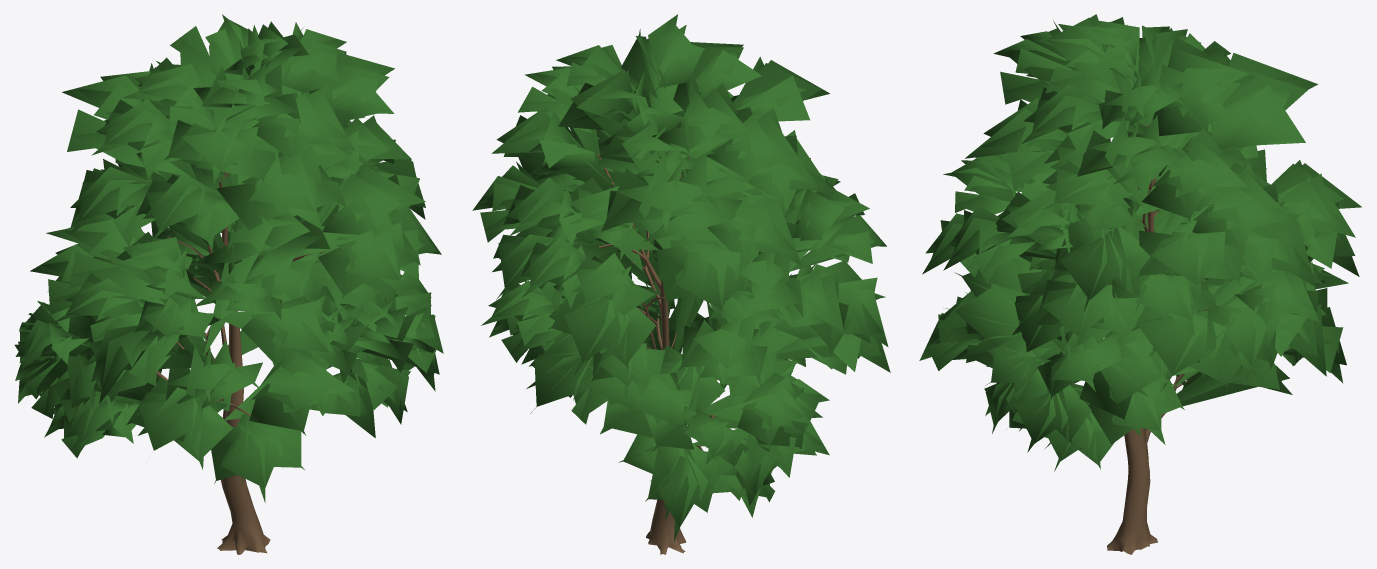
Rendered from Maple_B.obj.
The picture shows the model from 3 angles, left to right: view 1: azimuth 30°, elevation 25°; view 2: azimuth 150°, elevation 25°; view 3: azimuth 270°, elevation 25°; orthographic projection. The views are drawn at different scales.
Visible parts, largest first — view 1: Leaves, Trunk; view 2: Leaves, Trunk; view 3: Leaves, Trunk.
Boxes of the visible parts, x1,y1,x2,y2 form: Leaves: (14,14,443,502); Trunk: (156,172,325,554); Leaves: (472,14,890,541); Trunk: (598,154,725,554); Leaves: (919,14,1361,471); Trunk: (1107,124,1207,554).
Bounding box in the file's own units: 70.75 × 99.31 × 75.25.
